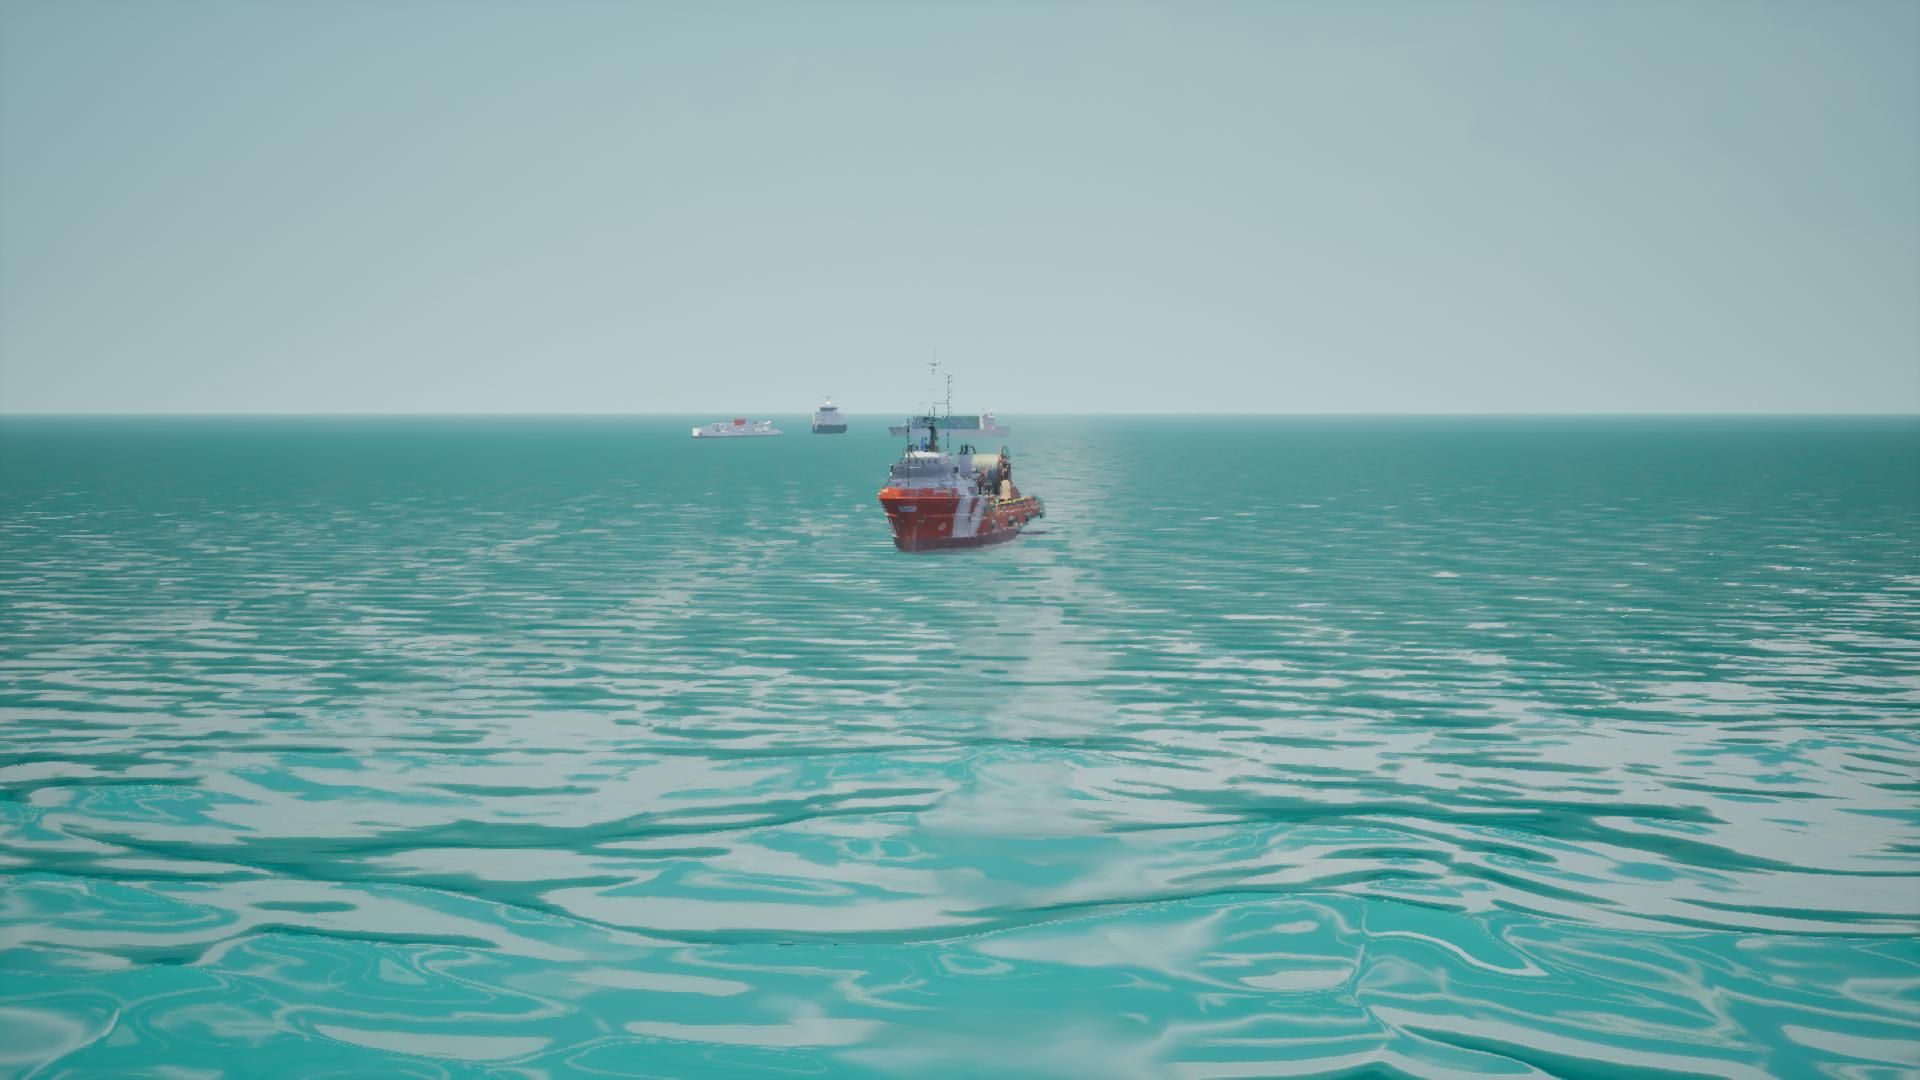Tug Boat: (878, 365, 1034, 554)
